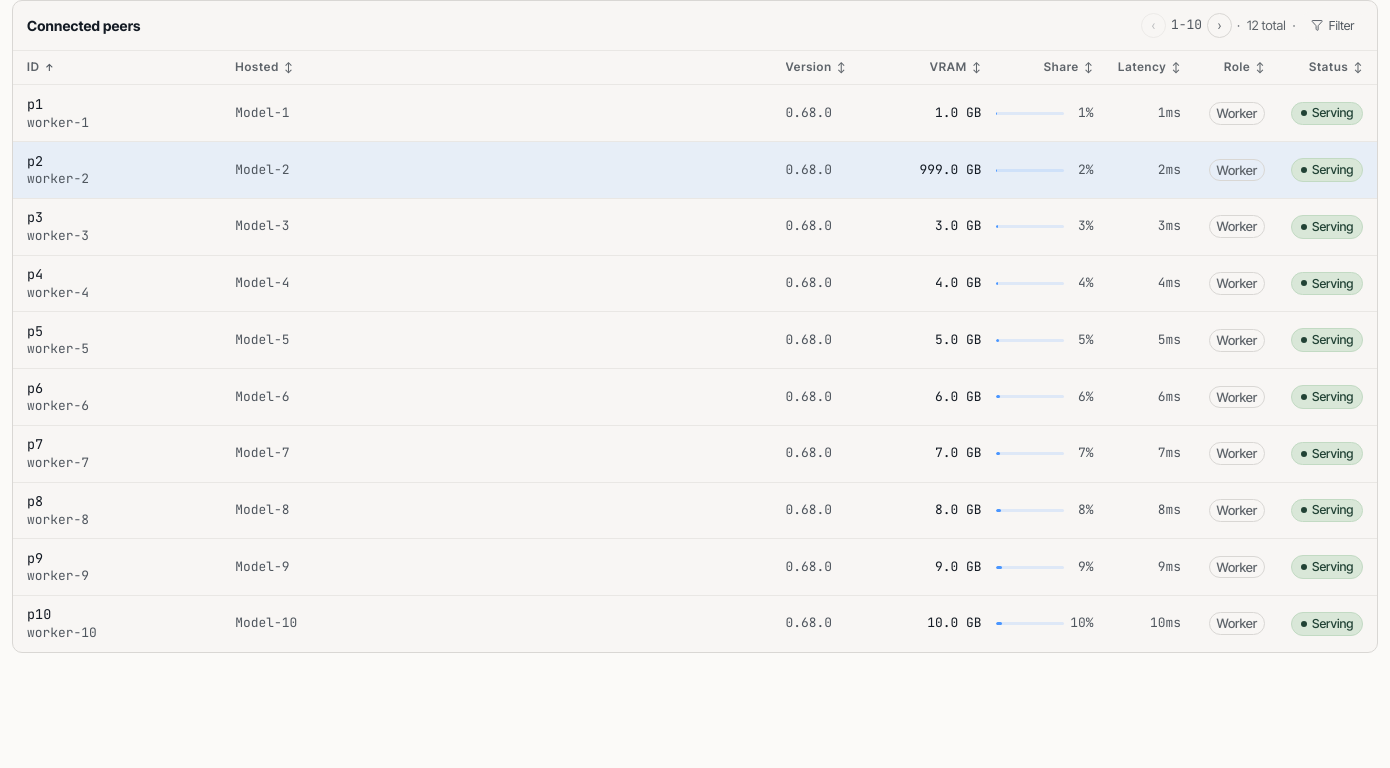
PeersTable › repages to keep a selected peer visible after sorting
Click the button with aria-label "Sort peers by VRAM ascending": (946, 68) [912, 60, 982, 76]
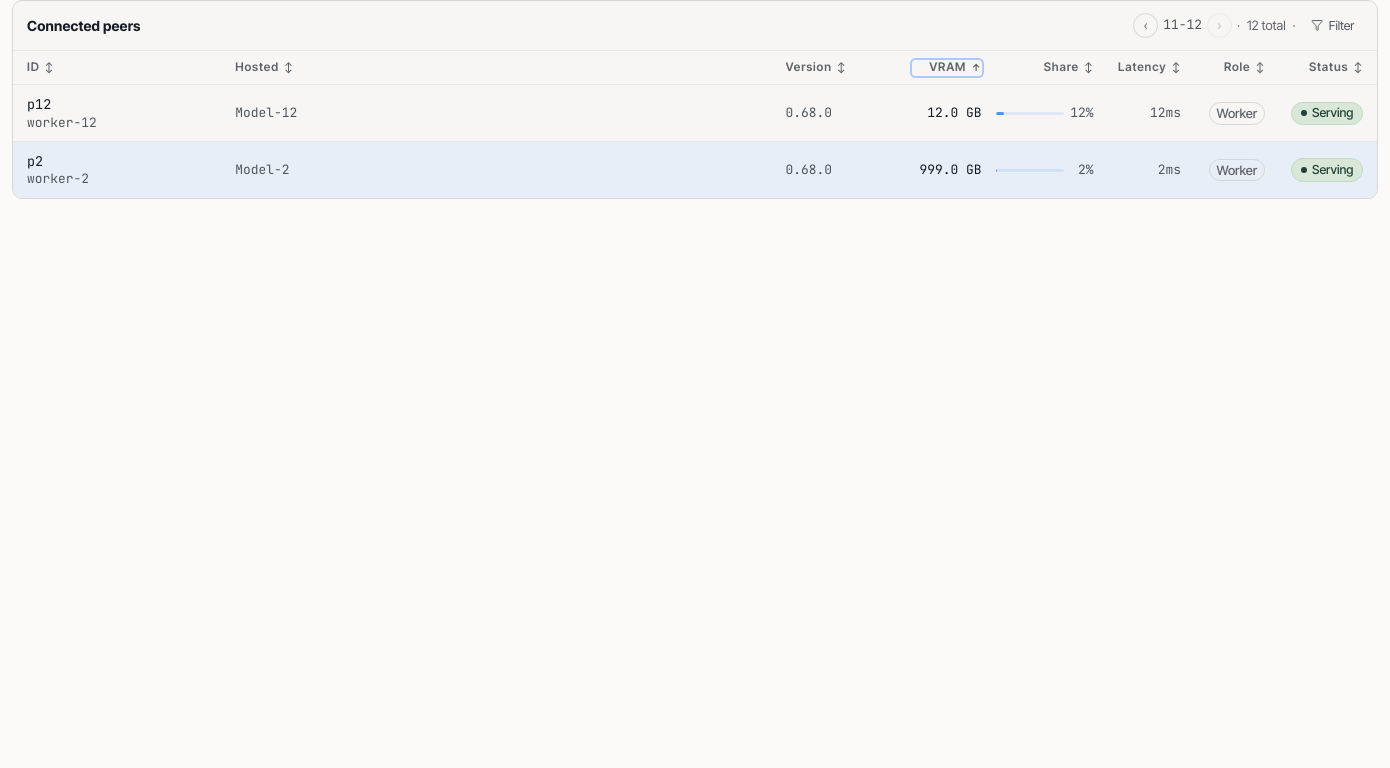
Expected: the text "11-12" is shown, [1163, 16, 1202, 35]
